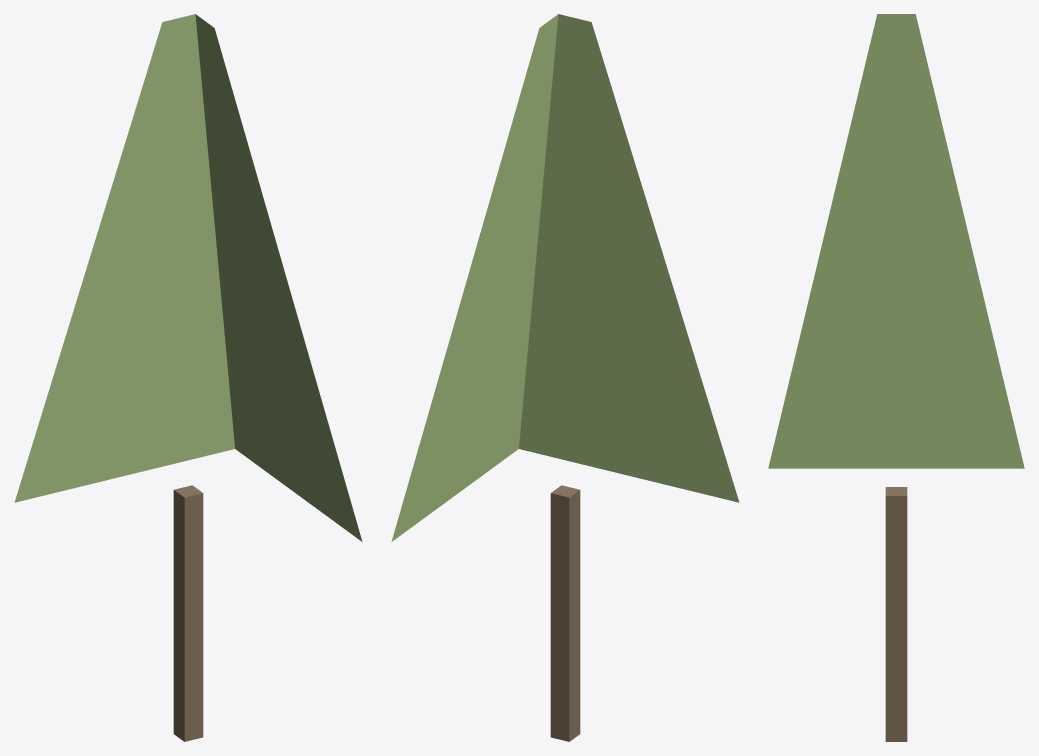
The model's file is tree-larch.glb.
3 views of the same model, side by side, from view 1: azimuth 30°, elevation 25°; view 2: azimuth 150°, elevation 25°; view 3: azimuth 270°, elevation 25° (orthographic).
Visible parts, largest first — view 1: canopy, trunk; view 2: canopy, trunk; view 3: canopy, trunk.
Part boxes in pixels (x1,y1,x2,y2): canopy: (14, 14, 362, 541); trunk: (173, 485, 203, 741); canopy: (391, 14, 739, 541); trunk: (550, 485, 580, 741); canopy: (768, 14, 1024, 468); trunk: (885, 487, 907, 741).
Bounding box in the file's own units: 5.2 × 16 × 5.2.
